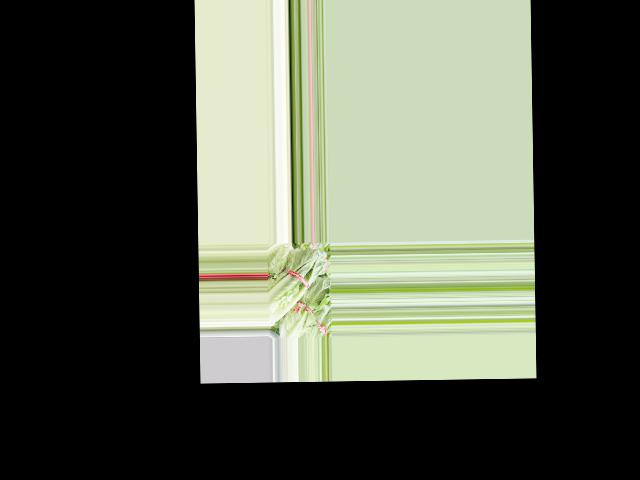lettuce: (266, 246, 328, 325)
